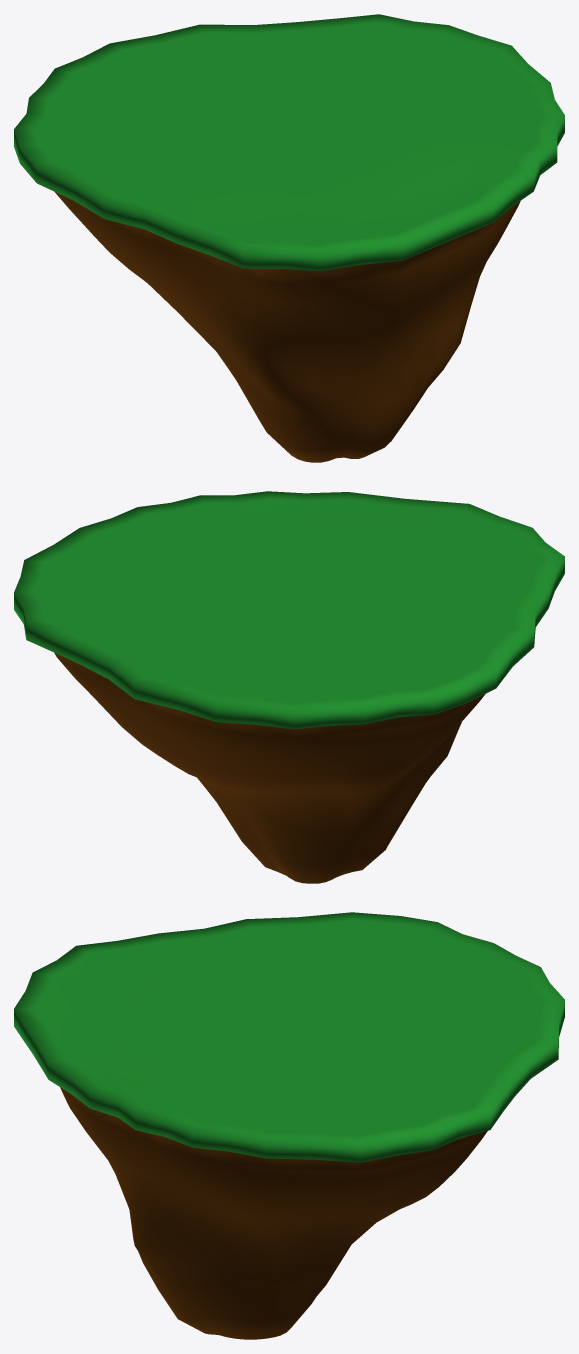
File: island.fbx
3 renders of one model, top to bottom at view 1: azimuth 30°, elevation 25°; view 2: azimuth 150°, elevation 25°; view 3: azimuth 270°, elevation 25°, orthographic. The views are drawn at different scales.
Visible parts, largest first — view 1: Island_1; view 2: Island_1; view 3: Island_1.
Part boxes in pixels (bbox=[...]): Island_1: bbox=[14, 14, 564, 462]; Island_1: bbox=[14, 491, 564, 883]; Island_1: bbox=[14, 912, 564, 1339].
Bounding box in the file's own units: 280 × 169 × 280.
